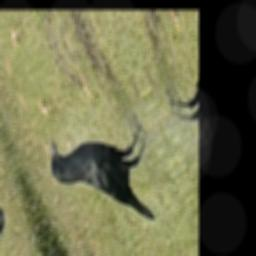Crow: (41, 84, 176, 256)
